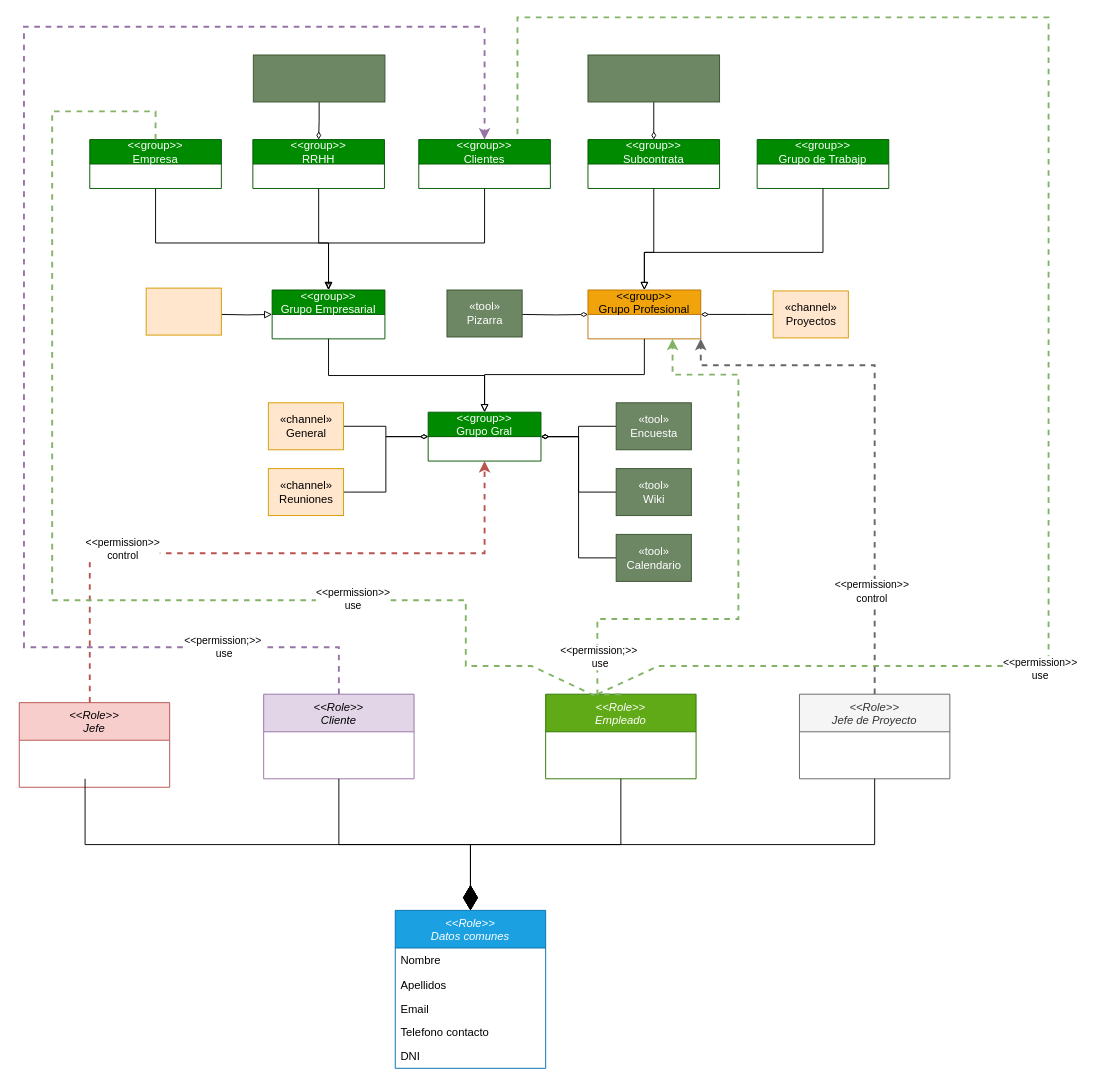
The diagram is 1093 pixels wide and 1087 high, and some of its shapes have lost their labels. The shapes that lost their labels are listed below. From the top down, each one's box as (x1, y1, x2, y2) in pixels, then its label:
(252, 54, 385, 102): «tool» Planner (CATEGORIZED TASKS
(587, 54, 720, 102): «tool» Planner (TASKS LIFECYCLE)
(145, 287, 221, 335): «channel» Sugerencias
